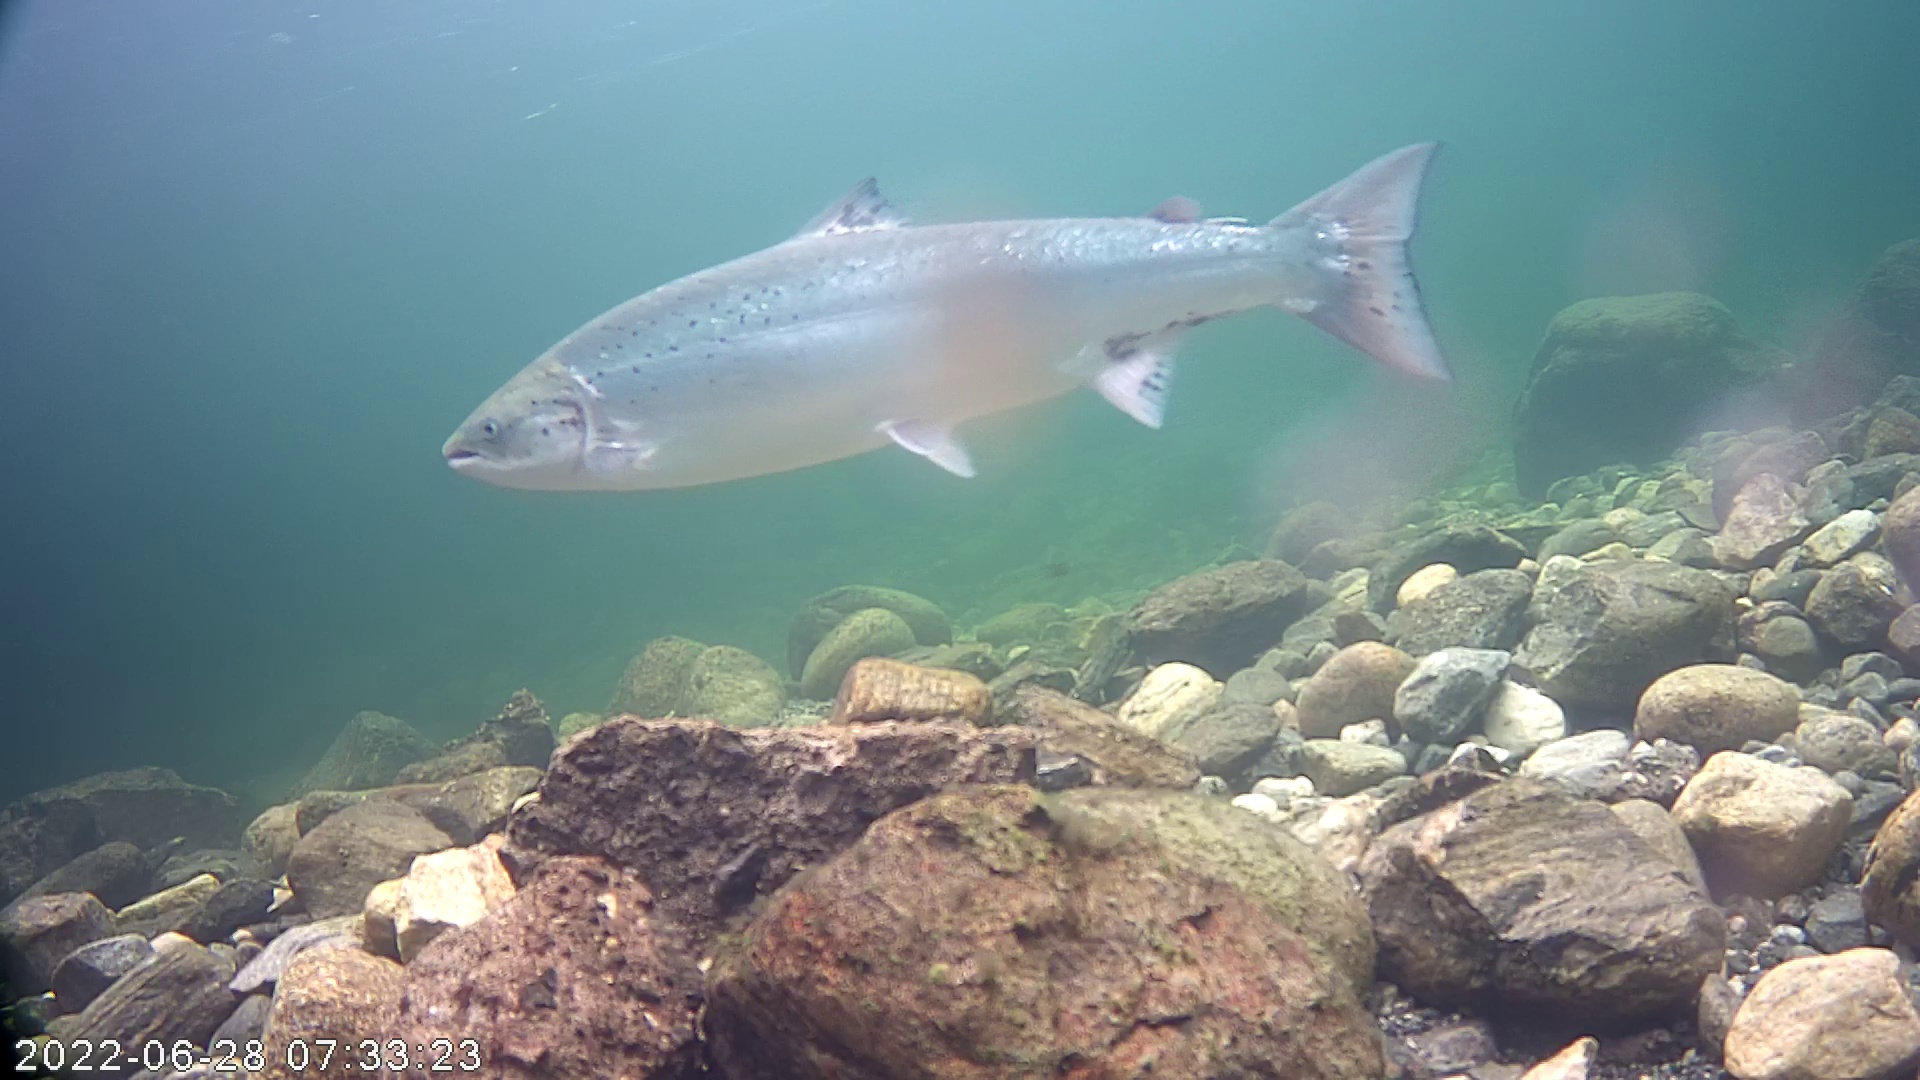salmon: (436, 128, 1494, 538)
